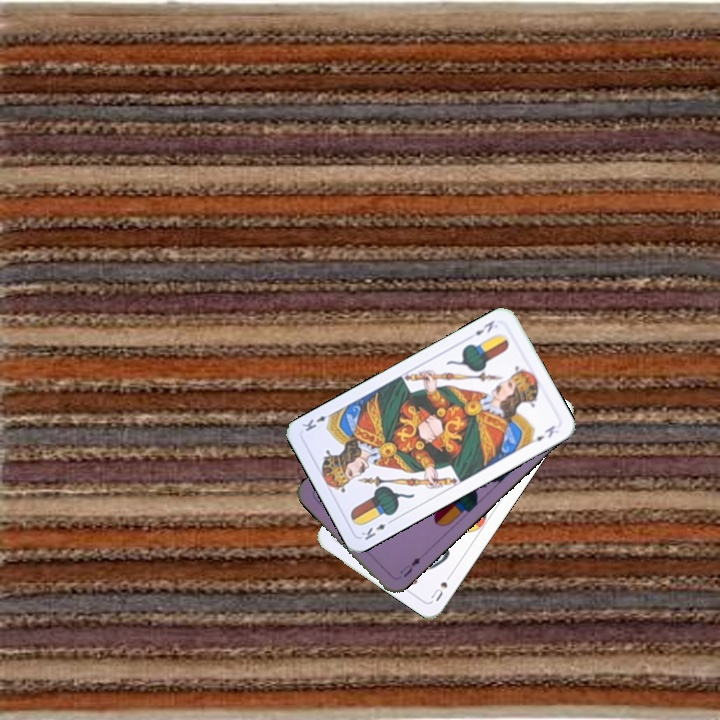EK: (357, 515, 396, 543), (471, 316, 497, 338)
EU: (395, 553, 423, 580)
SU: (427, 568, 455, 604)
